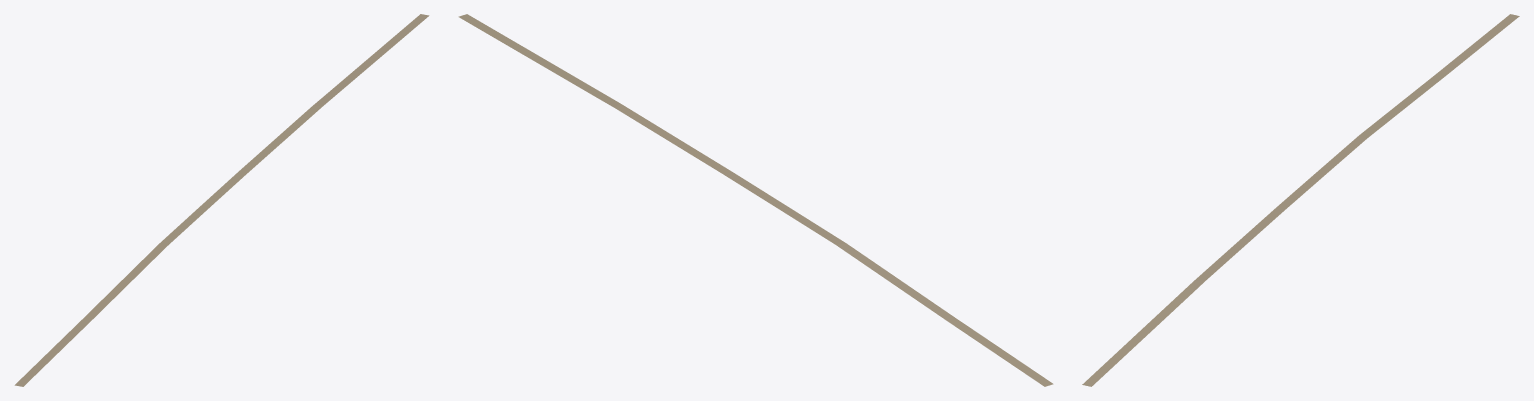
Rendered from farm_25_14_track.glb.
3 renders of one model, left to right at view 1: azimuth 90°, elevation 25°; view 2: azimuth 150°, elevation 25°; view 3: azimuth 270°, elevation 25°, orthographic. The views are drawn at different scales.
Parts seen in each view (by area): view 1: geometry_0; view 2: geometry_0; view 3: geometry_0.
Boxes of the visible parts, <box> form: geometry_0: <box>14,14,429,386</box>; geometry_0: <box>458,14,1053,386</box>; geometry_0: <box>1082,14,1519,386</box>.
Size of the model in its own units: 283 by 5.19 by 136.
